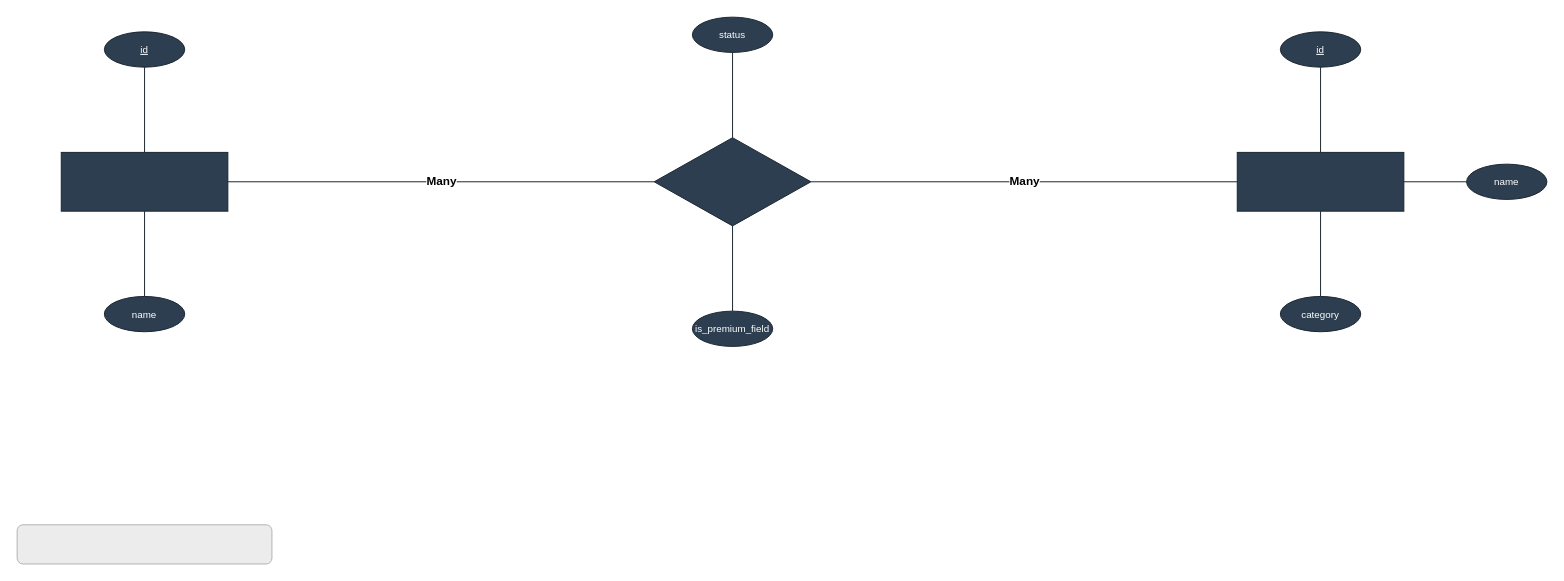
This 1564x581 diagram has some shape labels left out. Each missing label, with the centre of its shape:
"Atribut lengkap Supplier: lihat page 'Supplier - Detail Atribut'" goes at (144,544).
"Certification" goes at (1320,181).
"Mendapat Sertifikasi" goes at (732,181).
"Supplier" goes at (144,181).
